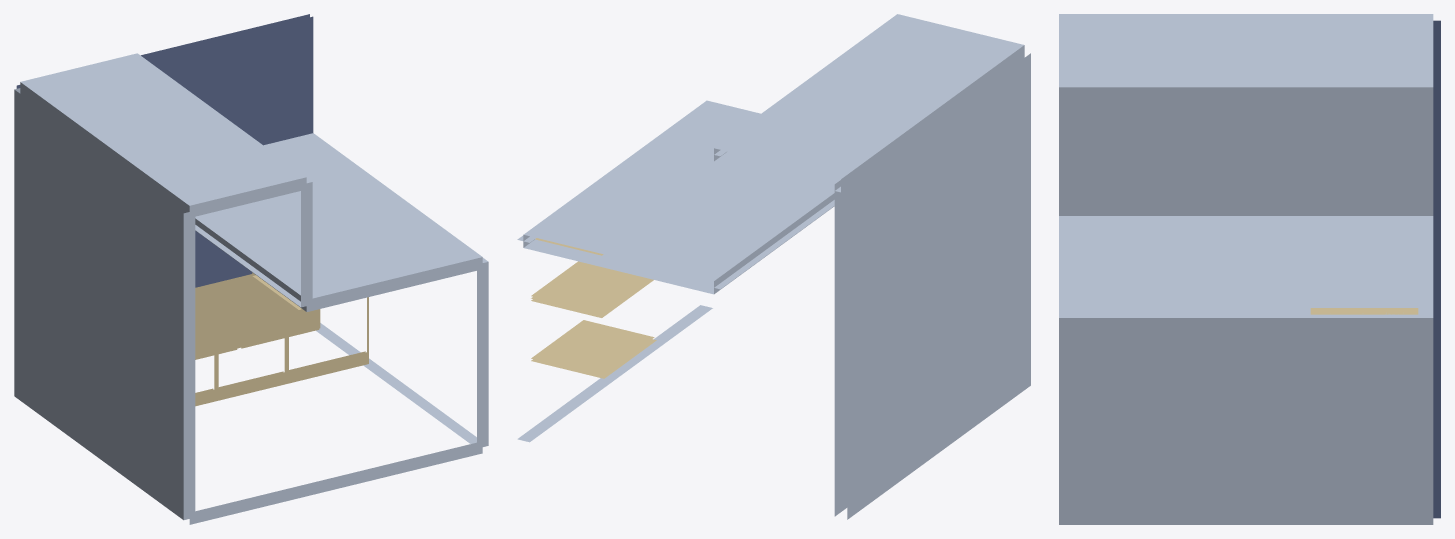
File: kitchen-2500x1500.glb
3 renders of one model, left to right at view 1: azimuth 30°, elevation 25°; view 2: azimuth 150°, elevation 25°; view 3: azimuth 270°, elevation 25°, orthographic. The views are drawn at different scales.
Parts seen in each view (by area): view 1: wall-wall-f, wall-wall-c, wall-wall-e, floor, wall-wall-b, wall-wall-a, a4-bottom, a3-bottom, wall-wall-d, a4-rail-top, a3-rail-top; view 2: wall-wall-f, wall-wall-c, wall-wall-e, b1-side-left, b2-side-left, wall-wall-b, wall-wall-d; view 3: wall-wall-b, wall-wall-d, wall-wall-c, wall-wall-e, floor, wall-wall-a, b2-side-right.
Part boxes in pixels (x1=…): wall-wall-f: x1=14, y1=88, x2=195, y2=520; wall-wall-c: x1=195, y1=133, x2=482, y2=311; wall-wall-e: x1=20, y1=53, x2=306, y2=216; floor: x1=16, y1=14, x2=313, y2=287; wall-wall-b: x1=316, y1=257, x2=488, y2=448; wall-wall-a: x1=189, y1=441, x2=482, y2=524; a4-bottom: x1=240, y1=276, x2=319, y2=348; a3-bottom: x1=195, y1=280, x2=237, y2=359; wall-wall-d: x1=195, y1=178, x2=312, y2=307; a4-rail-top: x1=289, y1=351, x2=366, y2=383; a3-rail-top: x1=218, y1=371, x2=284, y2=400; wall-wall-f: x1=834, y1=53, x2=1030, y2=519; wall-wall-c: x1=523, y1=100, x2=834, y2=294; wall-wall-e: x1=714, y1=14, x2=1024, y2=192; b1-side-left: x1=531, y1=320, x2=654, y2=378; b2-side-left: x1=531, y1=261, x2=648, y2=313; wall-wall-b: x1=517, y1=235, x2=712, y2=442; wall-wall-d: x1=708, y1=149, x2=834, y2=289; wall-wall-b: x1=1059, y1=311, x2=1433, y2=521; wall-wall-d: x1=1059, y1=81, x2=1433, y2=215; wall-wall-c: x1=1059, y1=216, x2=1433, y2=311; wall-wall-e: x1=1059, y1=14, x2=1433, y2=80; floor: x1=1433, y1=20, x2=1440, y2=518; wall-wall-a: x1=1059, y1=521, x2=1433, y2=524; b2-side-right: x1=1310, y1=308, x2=1418, y2=314.
Bounding box in the file's own units: 2600 × 2600 × 2550.
